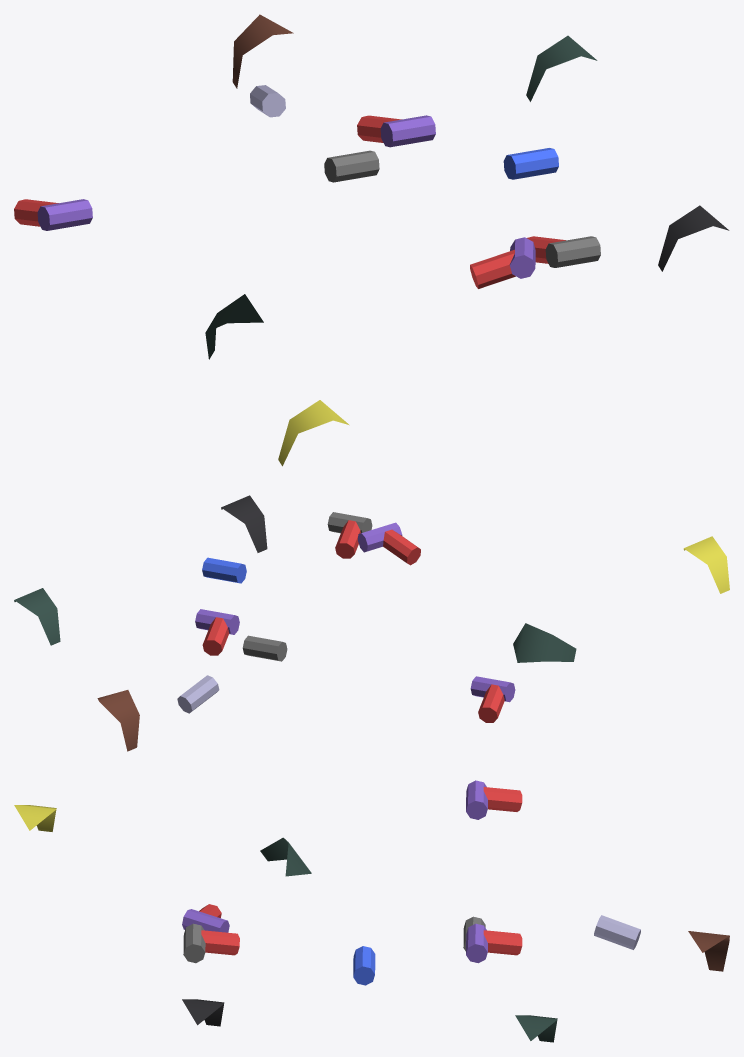
Rendered from trash.fbx.
The picture shows the model from 3 angles, top to bottom: view 1: azimuth 30°, elevation 25°; view 2: azimuth 150°, elevation 25°; view 3: azimuth 270°, elevation 25°; orthographic projection. The views are drawn at different scales.
Visible parts, largest first — view 1: trunk (×8), plant_largeLeaf (×5); view 2: trunk (×11), plant_largeLeaf (×5); view 3: trunk (×9), plant_largeLeaf (×5).
Part boxes in pixels (box(x1,y1,x2,y2)): trunk (×8): box(37, 85, 600, 288); plant_largeLeaf (×5): box(205, 14, 729, 466); trunk (×11): box(177, 512, 515, 722); plant_largeLeaf (×5): box(14, 495, 729, 751); trunk (×9): box(182, 780, 640, 985); plant_largeLeaf (×5): box(14, 805, 729, 1042).
Size of the model in its own units: 10.55 by 1.27 by 12.68.
